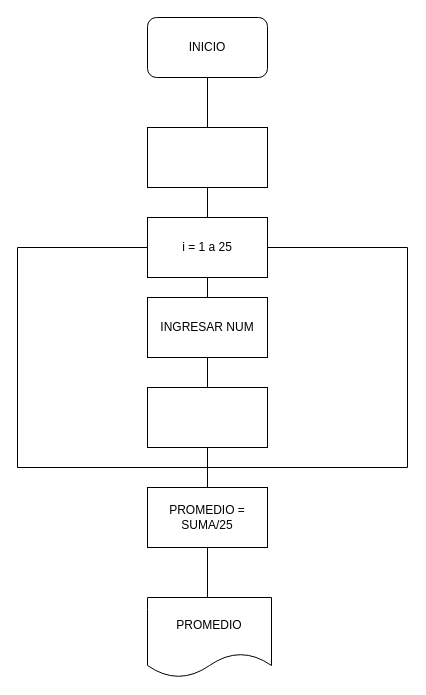
Image size: 426x695. Some labels were removed from this diagram. Each missing label, with the centre of its shape:
SUMA = 0: [207,157]
SUMA= SUMA + NUM: [207,417]
